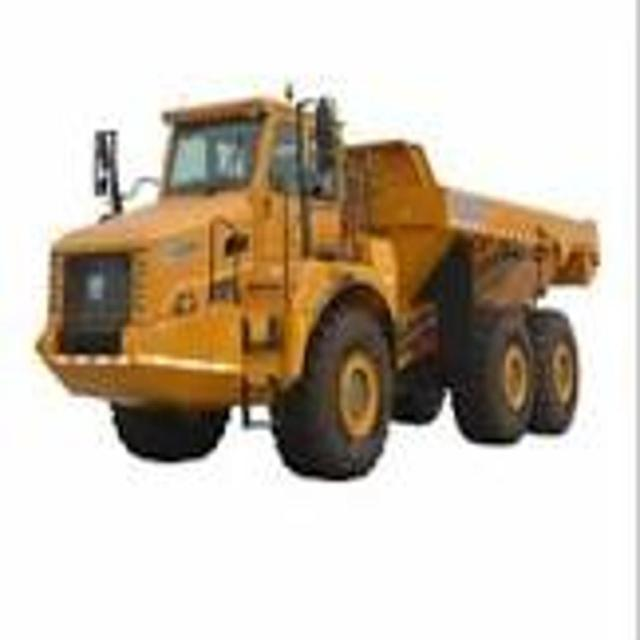dump_truck: (39, 78, 603, 480)
